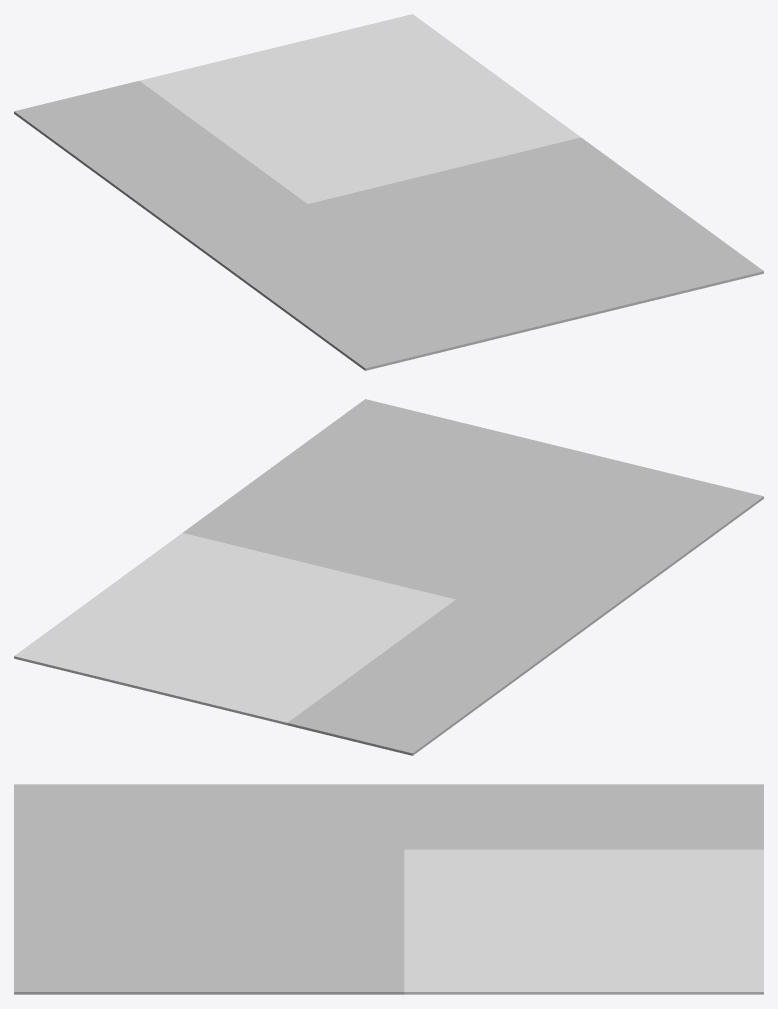
The model's file is Floor.dae.
3 renders of one model, top to bottom at view 1: azimuth 30°, elevation 25°; view 2: azimuth 150°, elevation 25°; view 3: azimuth 270°, elevation 25°, orthographic. The views are drawn at different scales.
Visible parts, largest first — view 1: Plane.001, Plane.002; view 2: Plane.001, Plane.002; view 3: Plane.001, Plane.002.
Boxes of the visible parts, x1=… form: Plane.001: x1=14, y1=81, x2=763, y2=370; Plane.002: x1=139, y1=14, x2=580, y2=203; Plane.001: x1=183, y1=399, x2=763, y2=755; Plane.002: x1=14, y1=533, x2=455, y2=725; Plane.001: x1=14, y1=784, x2=763, y2=994; Plane.002: x1=404, y1=849, x2=763, y2=994.
Size of the model in its own units: 8.4 by 12.82 by 0.05.
